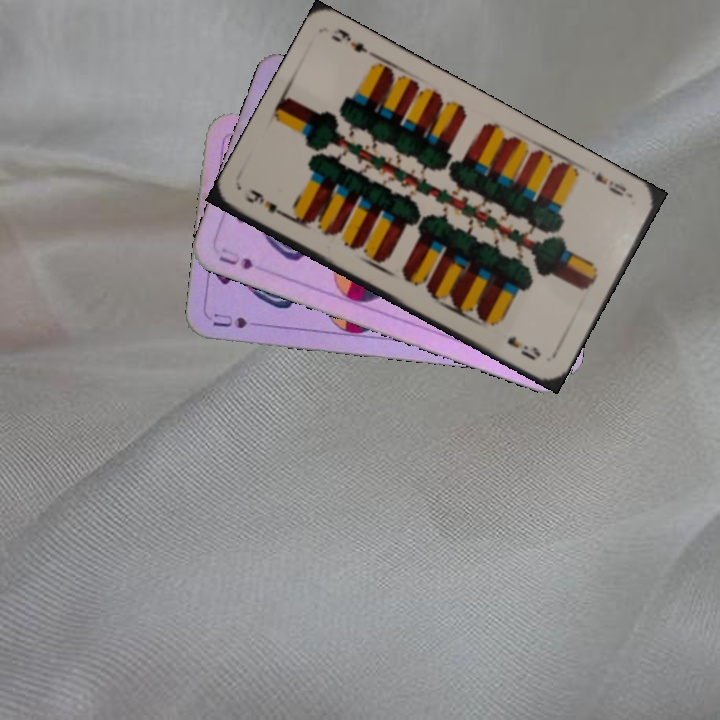E9: (239, 185, 293, 222), (590, 169, 629, 200)
SU: (209, 309, 268, 331), (214, 243, 255, 272)
